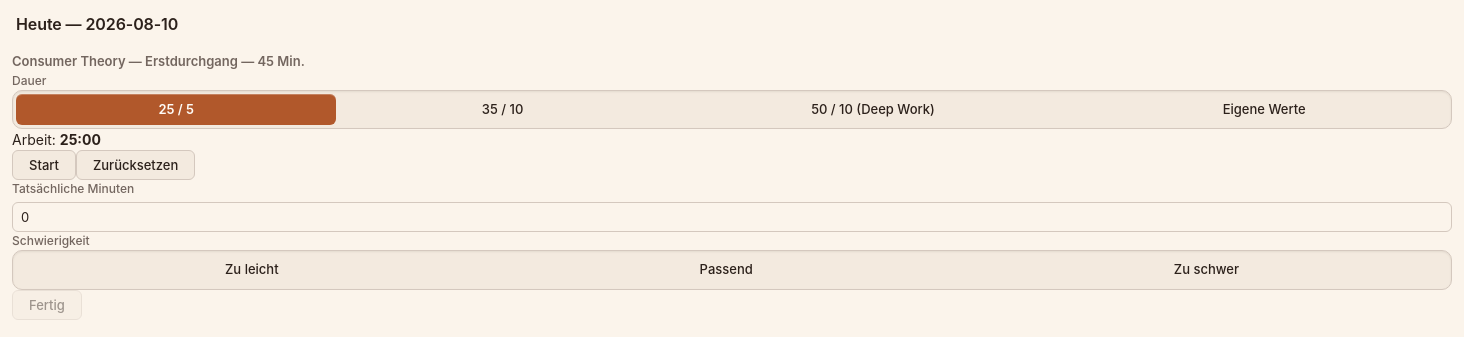
TodayView › deaktiviert "Fertig", solange kein Schwierigkeits-Feedback gewählt ist, und aktiviert es danach
Expected: the button "Fertig" is disabled, [12,290,82,320]
Step 1. Click the radio button labelled "Passend" → click(726, 269), box [700,261,753,277]
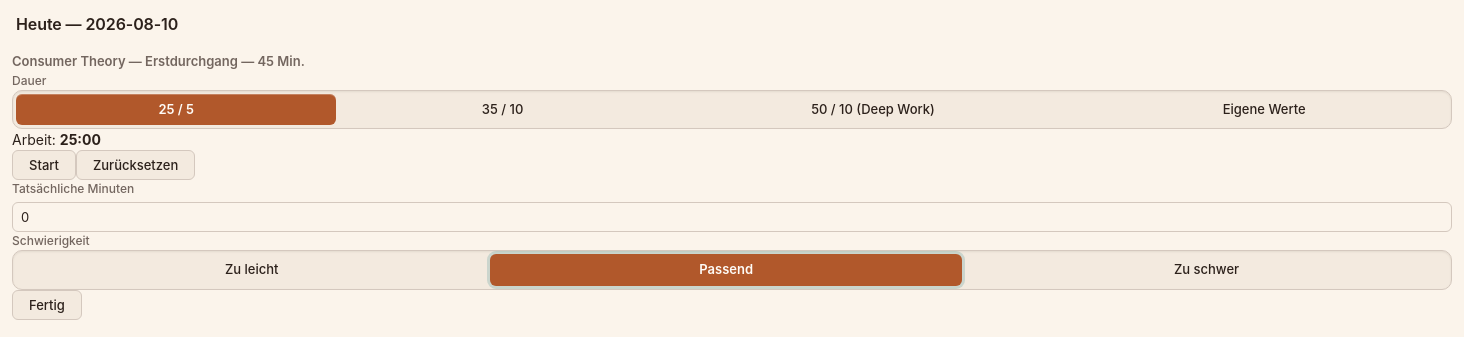
Result: the button "Fertig" is enabled at [12,290,82,320]
